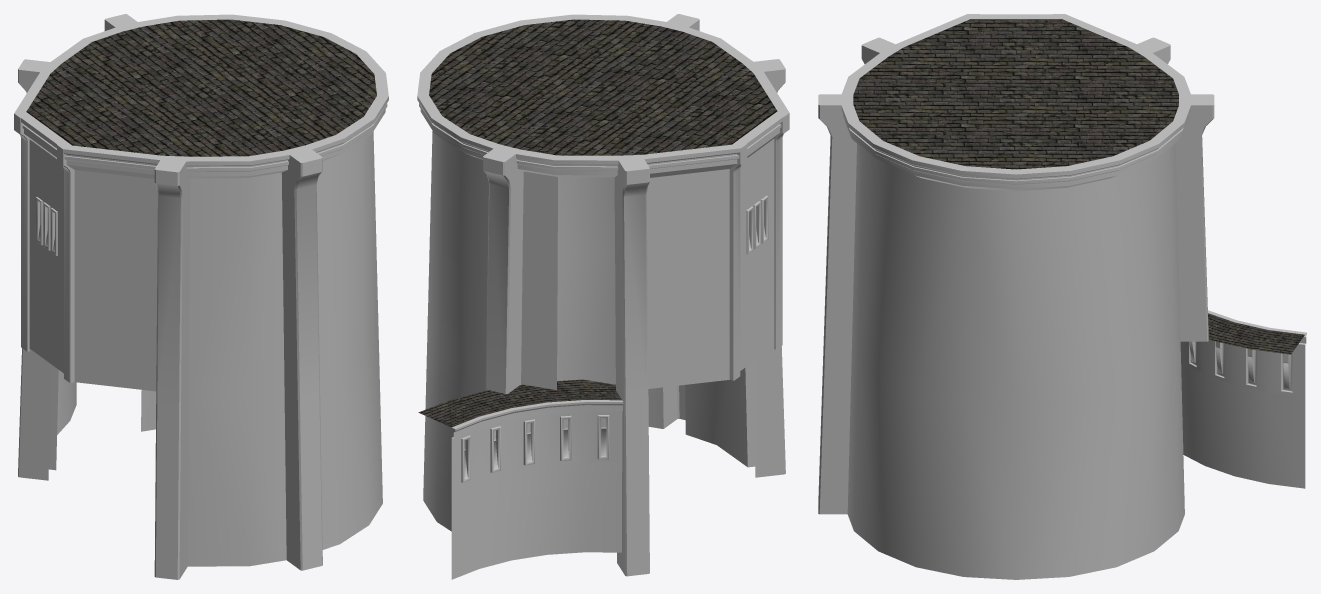
The model's file is SM_ExtCastle_B.FBX.
3 renders of one model, left to right at view 1: azimuth 30°, elevation 25°; view 2: azimuth 150°, elevation 25°; view 3: azimuth 270°, elevation 25°, orthographic.
Parts seen in each view (by area): view 1: SM_ExtCastle_B; view 2: SM_ExtCastle_B; view 3: SM_ExtCastle_B.
Part boxes in pixels (x1,y1,x2,y2): SM_ExtCastle_B: (14,14,388,579); SM_ExtCastle_B: (417,14,789,579); SM_ExtCastle_B: (818,14,1306,579).
Size of what is drawn, in the model's own units: 4511 by 5802 by 5360.
